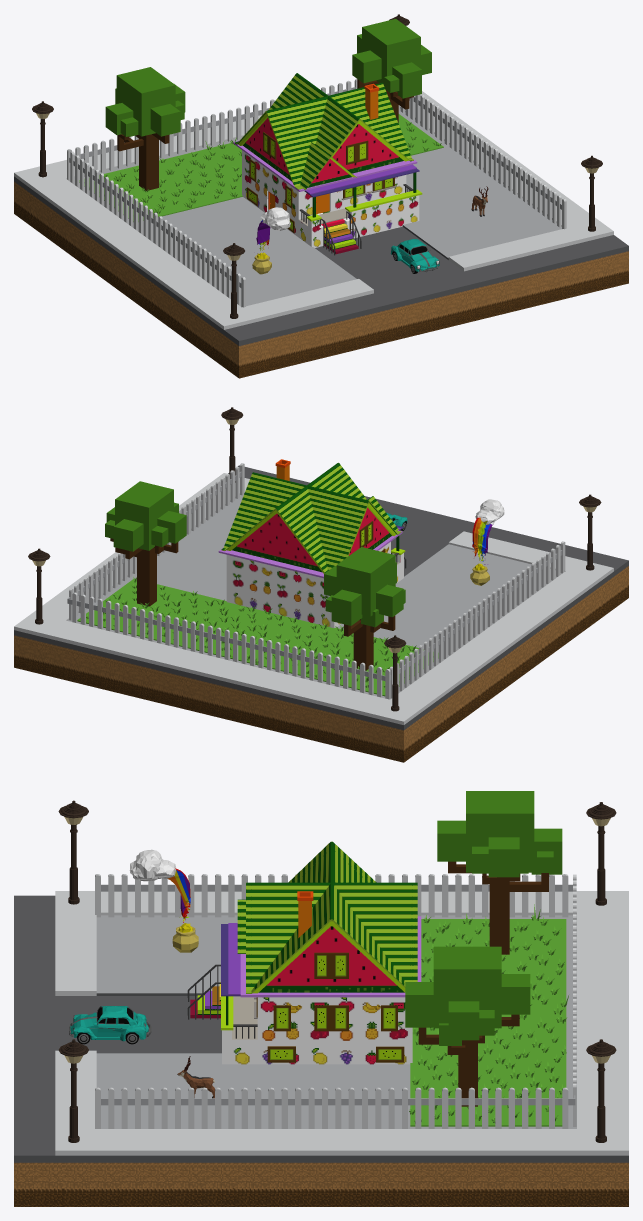
3 views of the same model, one above another, from view 1: azimuth 30°, elevation 25°; view 2: azimuth 150°, elevation 25°; view 3: azimuth 270°, elevation 25° (orthographic). The views are drawn at different scales.
Visible parts, largest first — view 1: Cube.004, Cube.1063, OBJRANDOM_RAINBOW, VEHICLES_VOLKSWAGEN; view 2: Cube.004, Cube.1063, OBJRANDOM_RAINBOW; view 3: Cube.004, Cube.1063, VEHICLES_VOLKSWAGEN, OBJRANDOM_RAINBOW.
Boxes of the visible parts, x1,y1,x2,y2 form: Cube.004: (14,14,628,378); Cube.1063: (233,73,422,255); OBJRANDOM_RAINBOW: (252,207,290,274); VEHICLES_VOLKSWAGEN: (390,239,439,273); Cube.004: (14,407,628,762); Cube.1063: (218,459,406,627); OBJRANDOM_RAINBOW: (470,499,504,585); Cube.004: (14,791,628,1206); Cube.1063: (187,841,421,1064); VEHICLES_VOLKSWAGEN: (69,1006,151,1044); OBJRANDOM_RAINBOW: (129,849,198,952).
Size of the model in its own units: 4000 by 1600 by 4000.
38 materials, 5 textured.
